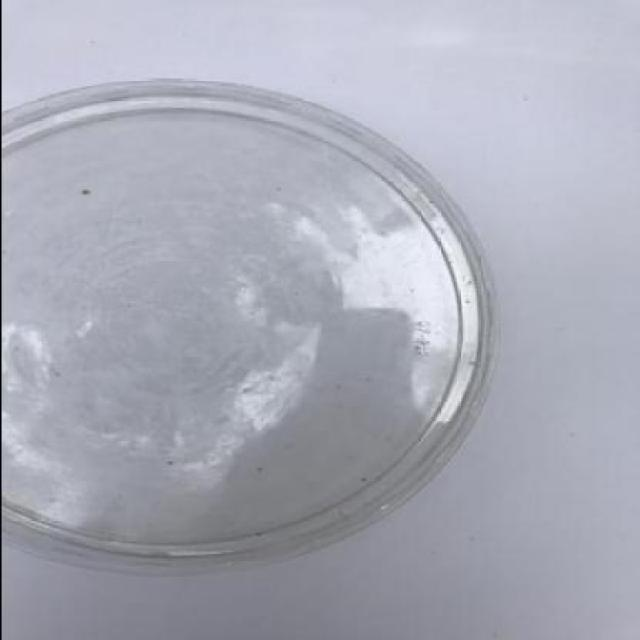PLASTIC: (1, 78, 493, 573)
